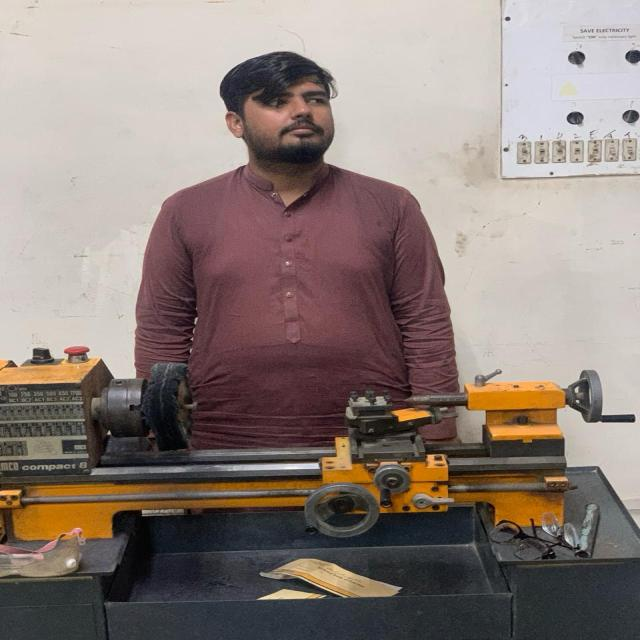dress: (128, 159, 469, 454)
